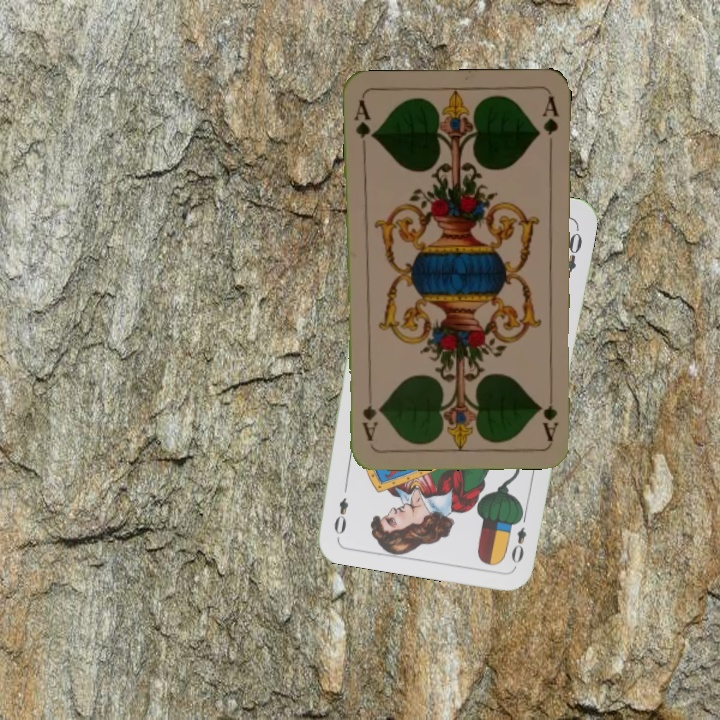EO: (507, 508, 530, 566)
GA: (350, 96, 377, 155), (539, 383, 560, 443)
